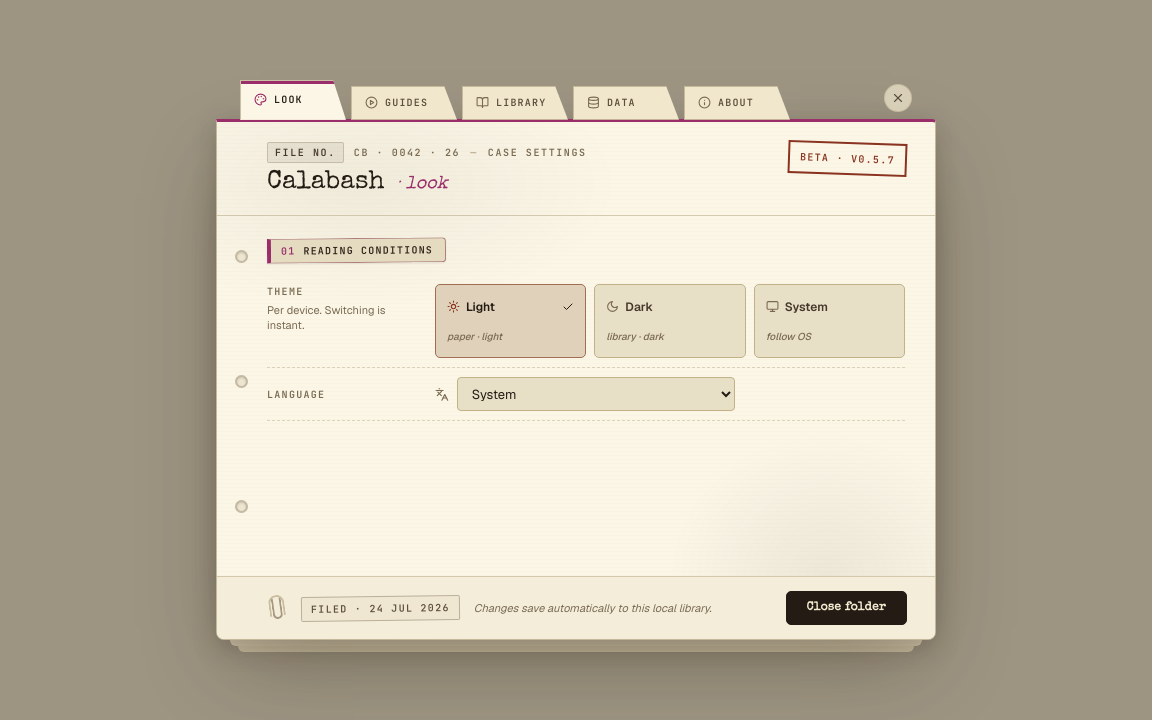
Test: SettingsPanel › shows an up-to-date state when no newer release exists
Click the button "About". click: coordinates (737, 103)
box: [684,86,790,120]
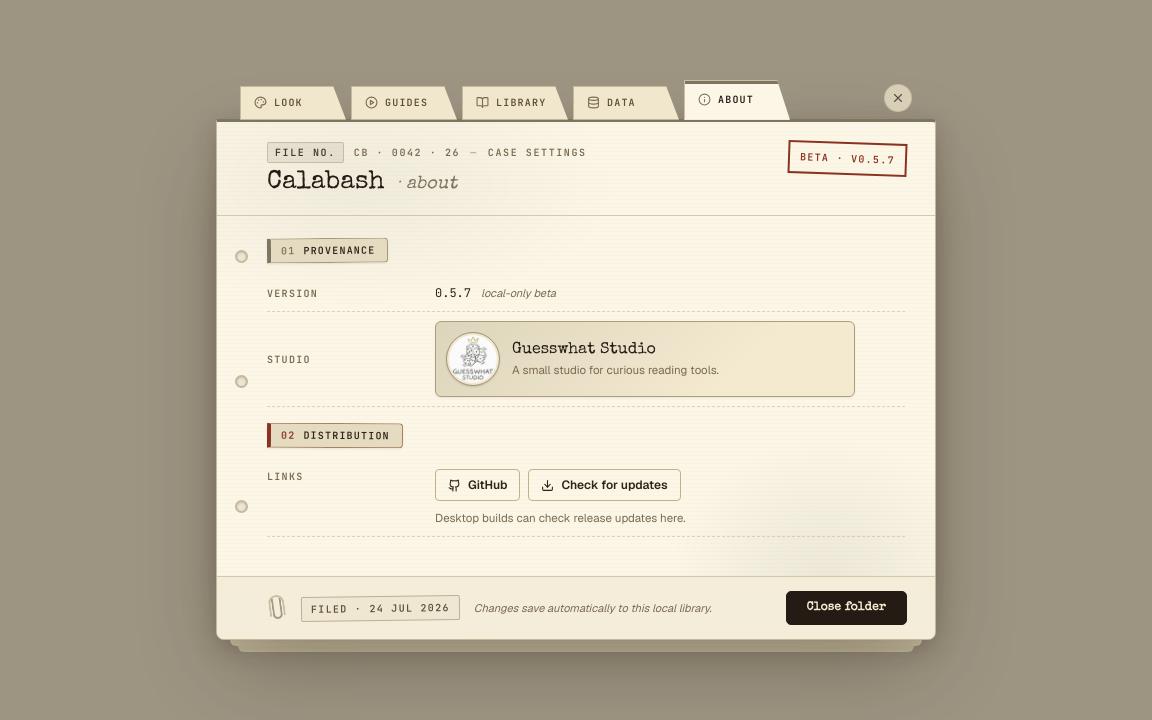
Click the button "Check for updates". click: coordinates (604, 485)
box: [528,469,681,501]
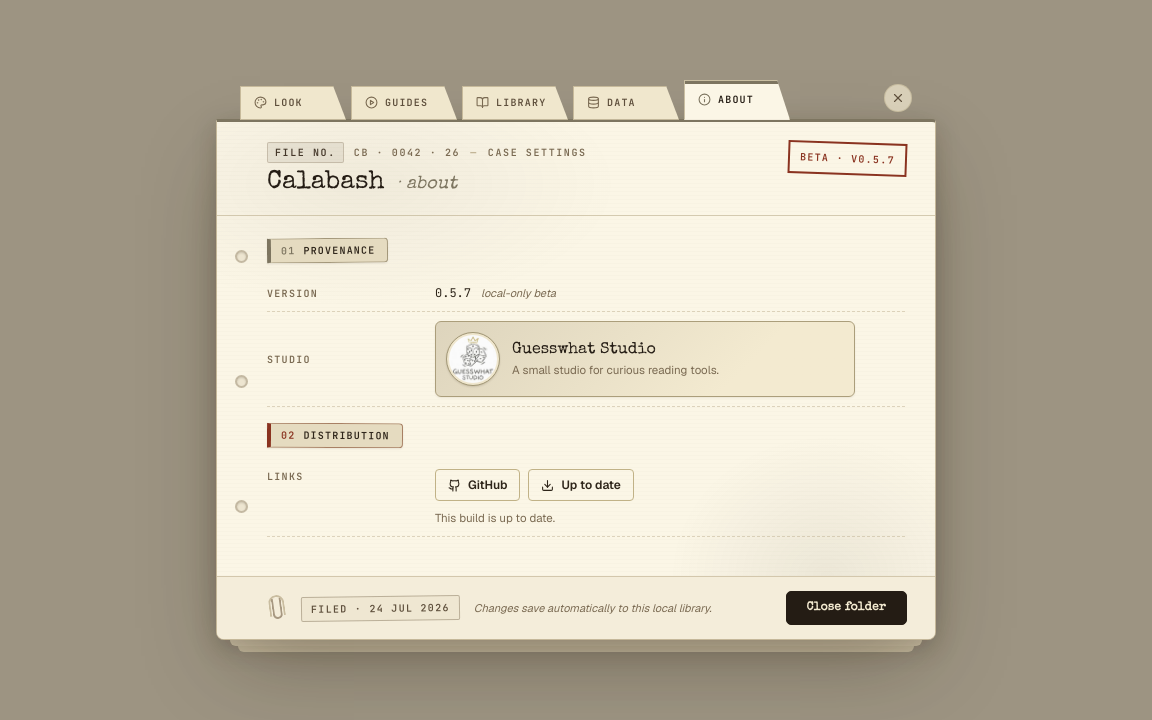
expect the text "This build is up to date." is shown: met, box [435,510,555,525]
